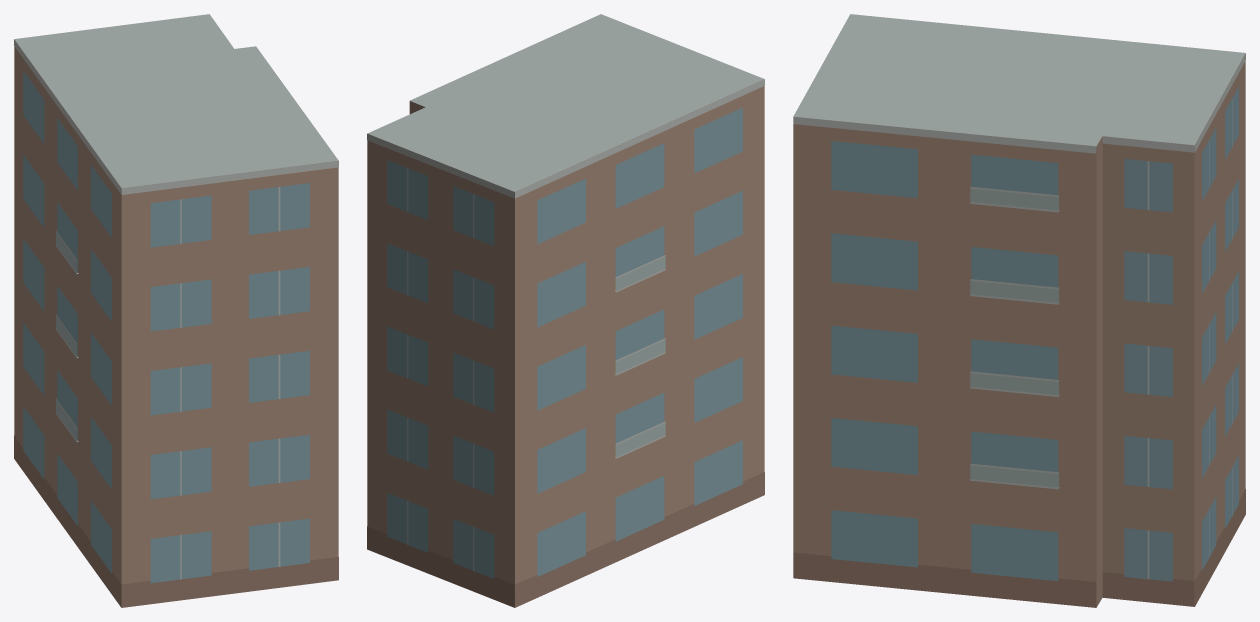
Rendered from survey-upis-32594216.glb.
3 renders of one model, left to right at view 1: azimuth 30°, elevation 25°; view 2: azimuth 150°, elevation 25°; view 3: azimuth 270°, elevation 25°, orthographic. The views are drawn at different scales.
Visible parts, largest first — view 1: survey-upis-32594216.tmp; view 2: survey-upis-32594216.tmp; view 3: survey-upis-32594216.tmp.
Part boxes in pixels (left/top/right/bottom): survey-upis-32594216.tmp: left=14, top=14, right=338, bottom=607; survey-upis-32594216.tmp: left=367, top=14, right=764, bottom=607; survey-upis-32594216.tmp: left=793, top=14, right=1245, bottom=607.
Bounding box in the file's own units: 9.39 × 15.25 × 13.56.
